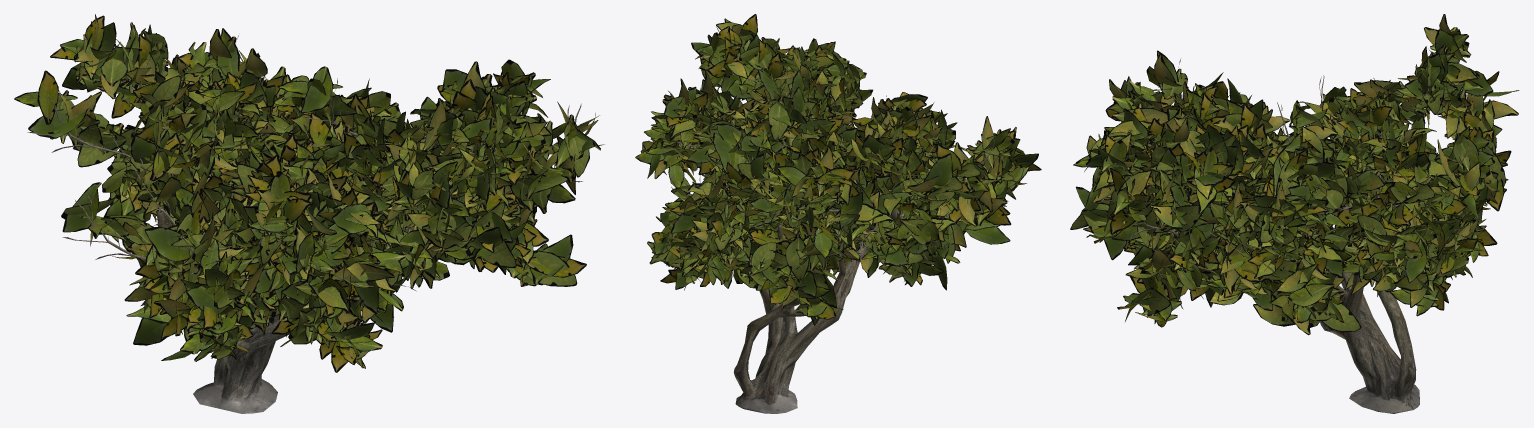
Rendered from island_tree_02.glb.
The picture shows the model from 3 angles, left to right: view 1: azimuth 30°, elevation 25°; view 2: azimuth 150°, elevation 25°; view 3: azimuth 270°, elevation 25°; orthographic projection. The views are drawn at different scales.
Visible parts, largest first — view 1: island_tree_02_LOD0; view 2: island_tree_02_LOD0; view 3: island_tree_02_LOD0.
Part boxes in pixels (bbox=[...]): island_tree_02_LOD0: bbox=[14, 14, 604, 413]; island_tree_02_LOD0: bbox=[635, 14, 1041, 413]; island_tree_02_LOD0: bbox=[1070, 14, 1519, 413].
Size of the model in its own units: 4.21 by 3.64 by 4.4.
3 materials, 3 textured.
